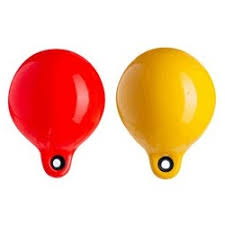buoy: (8, 49, 105, 182)
